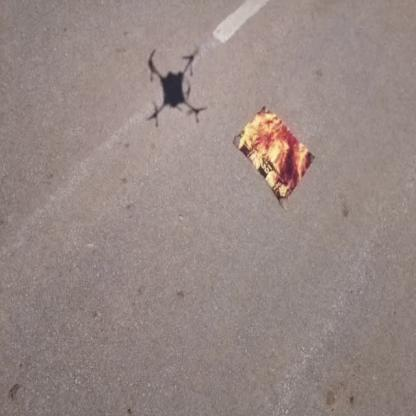fire-poster: (232, 104, 316, 210)
